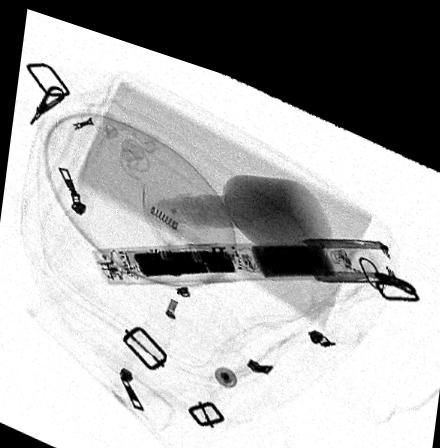Baton: (90, 214, 397, 278)
